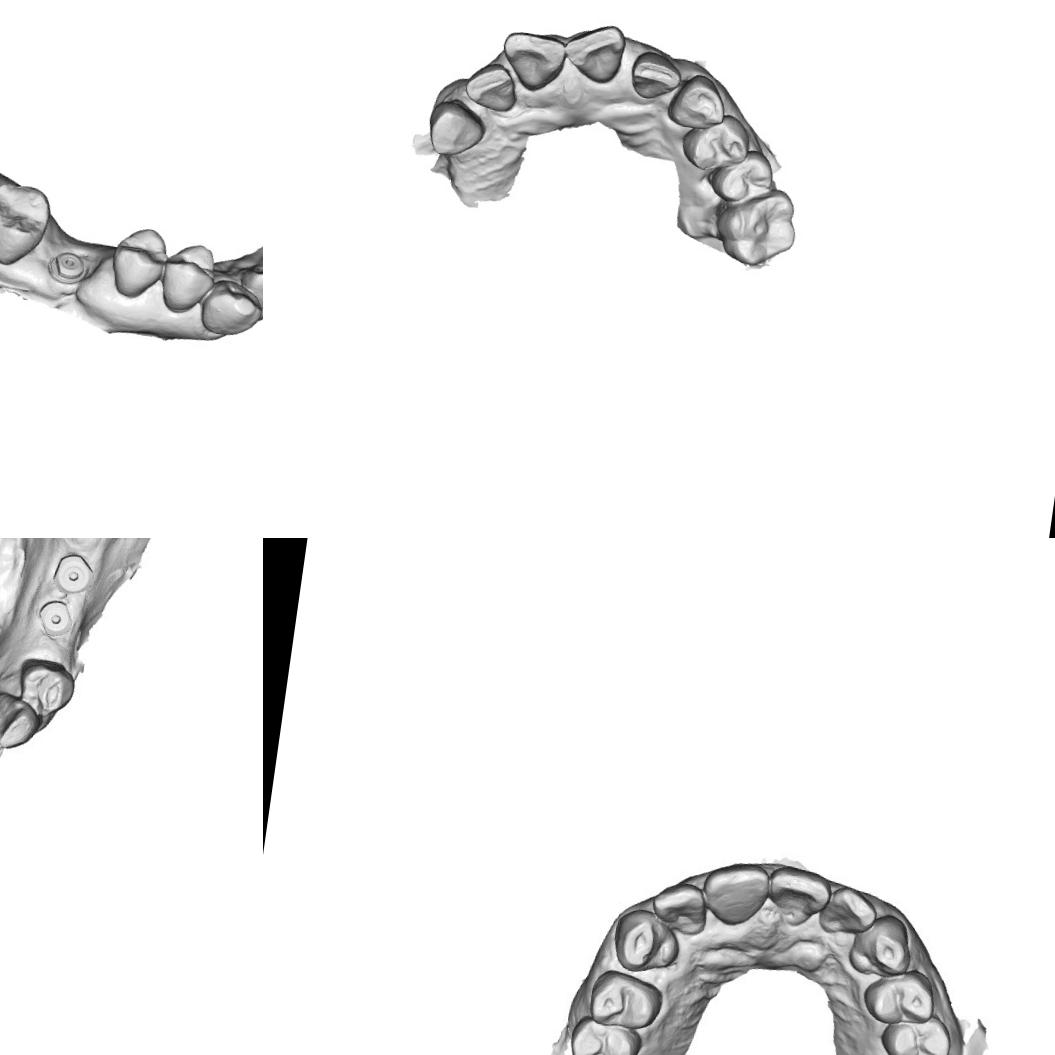canine: (601, 905, 685, 977), (847, 912, 920, 980), (420, 95, 490, 162), (195, 274, 263, 341), (664, 69, 731, 134), (0, 692, 38, 748)
implant: (52, 548, 104, 598), (44, 246, 91, 290), (36, 599, 77, 638)
incisor: (697, 859, 778, 932), (496, 27, 570, 98), (761, 864, 835, 930), (560, 19, 628, 87), (461, 57, 523, 114), (625, 46, 684, 105), (651, 880, 712, 931), (819, 888, 875, 934), (230, 258, 263, 318)
molar: (710, 180, 804, 274), (0, 175, 53, 271)
premolar: (584, 968, 665, 1036), (677, 108, 754, 179), (703, 142, 779, 213), (107, 222, 171, 304), (156, 236, 218, 319), (860, 972, 938, 1036), (14, 651, 84, 720), (880, 1009, 954, 1055), (566, 1016, 644, 1055)
